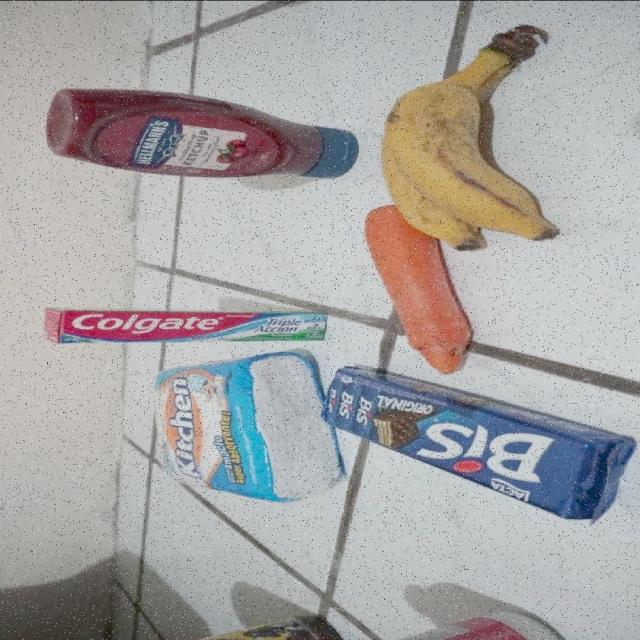Banana: (382, 24, 562, 250)
Carrot: (366, 202, 462, 374)
ChocolatePowder: (85, 614, 335, 640)
CoconutMilk: (339, 611, 580, 640)
Ketchup: (46, 87, 359, 176)
Napkin: (155, 351, 340, 499)
Toothpaste: (42, 307, 330, 344)
